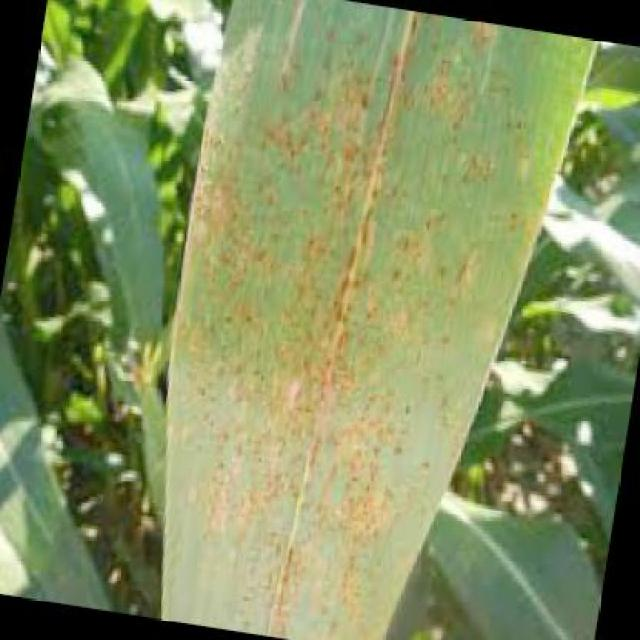Corn_Rust: (152, 34, 492, 618)
